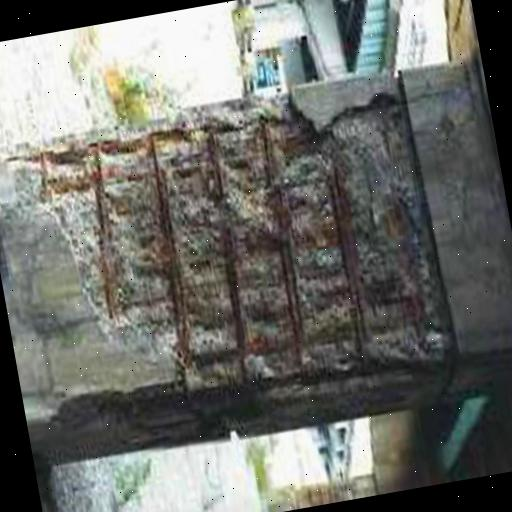spalling: (6, 70, 450, 440)
